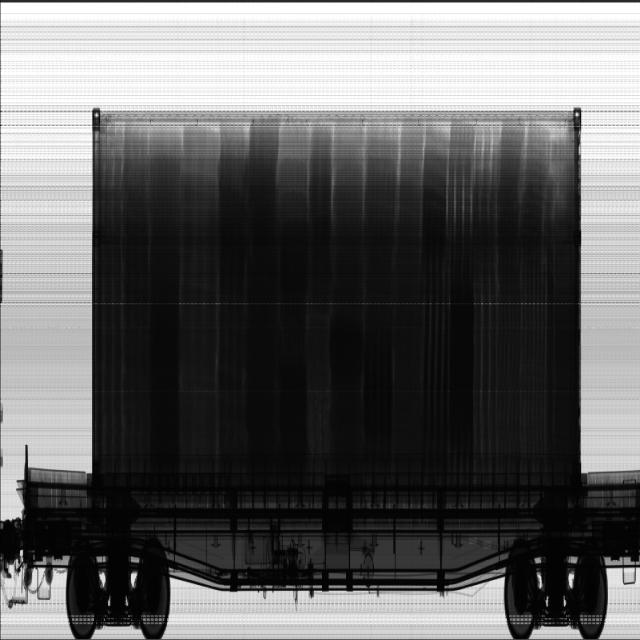clothes: (97, 130, 577, 485)
